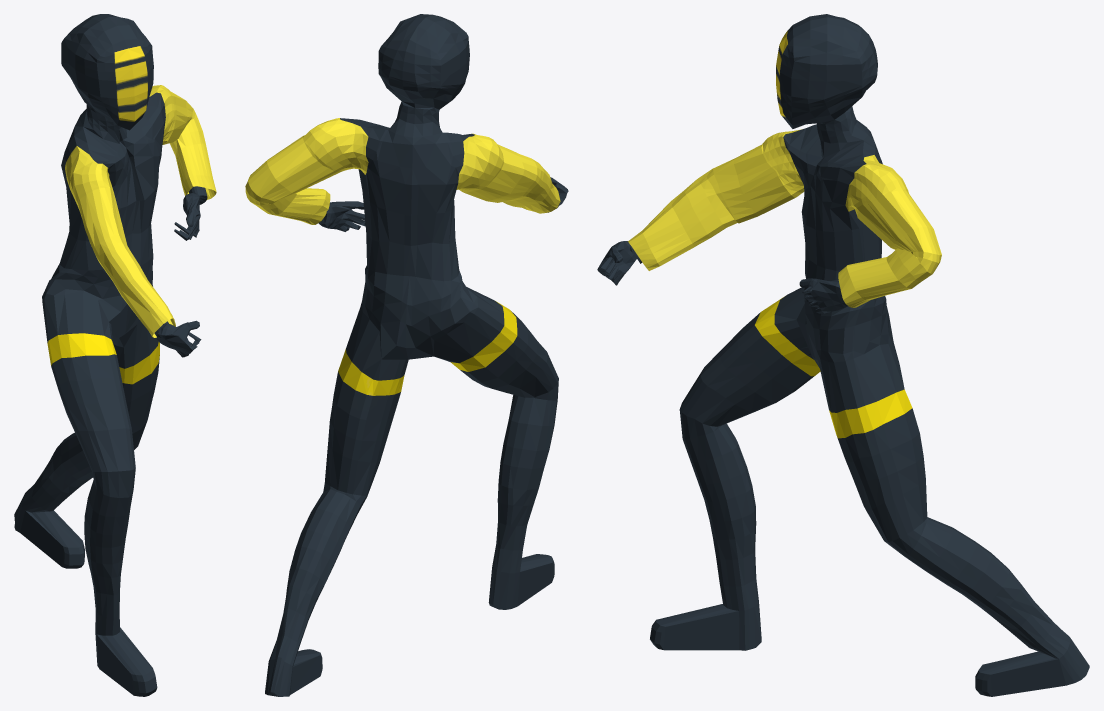
The model's file is Sentry_Hit_Stun_Recover_000007.obj.
3 views of the same model, side by side, from view 1: azimuth 30°, elevation 25°; view 2: azimuth 150°, elevation 25°; view 3: azimuth 270°, elevation 25° (orthographic). The views are drawn at different scales.
Visible parts, largest first — view 1: Cube; view 2: Cube; view 3: Cube.
Part boxes in pixels (x1=…): Cube: x1=14, y1=14, x2=216, y2=696; Cube: x1=245, y1=14, x2=568, y2=696; Cube: x1=597, y1=14, x2=1089, y2=696.
Size of the model in its own units: 1.28 by 3.59 by 2.45.
